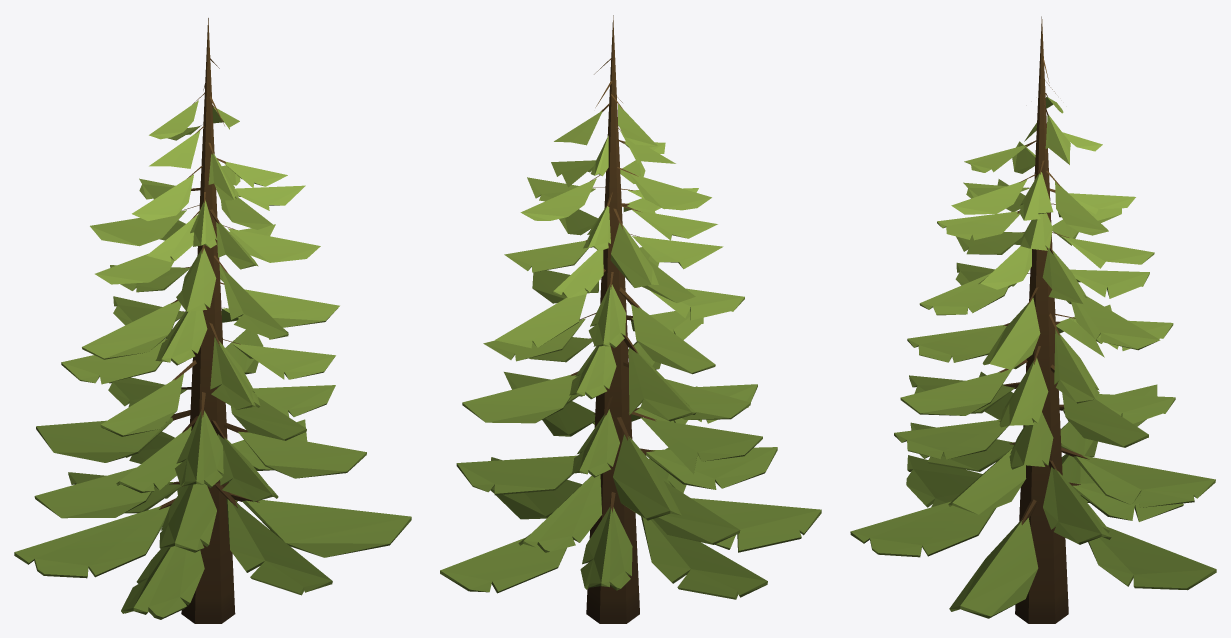
The model's file is tree_05.glb.
The picture shows the model from 3 angles, left to right: view 1: azimuth 30°, elevation 25°; view 2: azimuth 150°, elevation 25°; view 3: azimuth 270°, elevation 25°; orthographic projection.
Parts seen in each view (by area): view 1: Spring_Tree_05_LOD1; view 2: Spring_Tree_05_LOD1; view 3: Spring_Tree_05_LOD1.
Part boxes in pixels (bbox=[...]): Spring_Tree_05_LOD1: bbox=[14, 18, 411, 623]; Spring_Tree_05_LOD1: bbox=[440, 15, 821, 623]; Spring_Tree_05_LOD1: bbox=[850, 16, 1216, 623].
Bounding box in the file's own units: 4.32 × 7.35 × 4.07.
1 material, 1 textured.
